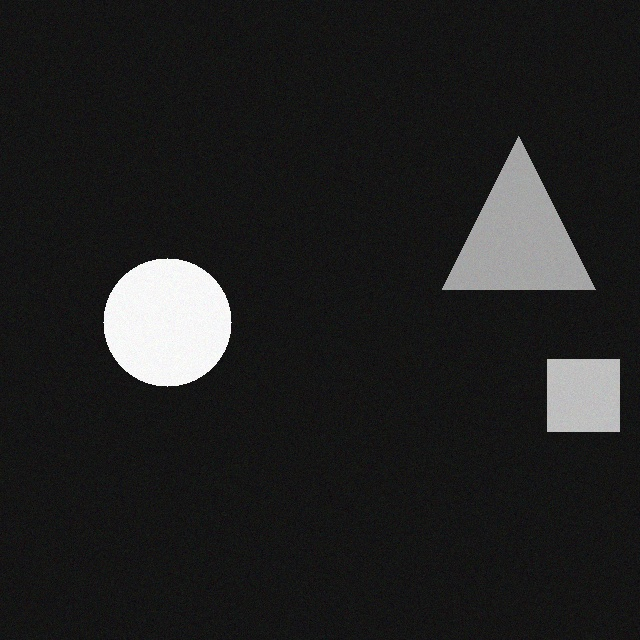circle: (100, 261, 228, 389)
square: (544, 362, 616, 434)
triangle: (439, 139, 592, 292)
